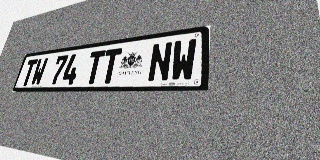4: (61, 53, 82, 85)
7: (49, 55, 69, 85)
N: (147, 41, 173, 82)
T: (99, 48, 122, 84), (84, 50, 106, 84), (20, 59, 38, 86)
W: (170, 38, 197, 82), (30, 57, 48, 86)
